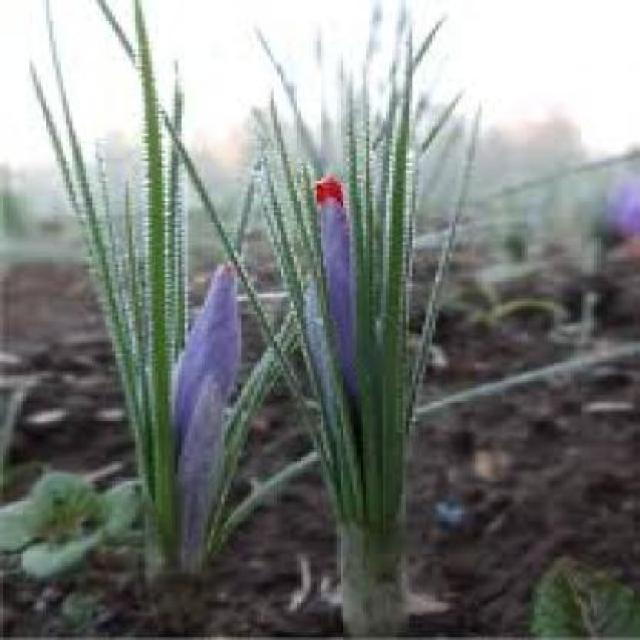Flower: (310, 172, 398, 468), (164, 259, 244, 523)
